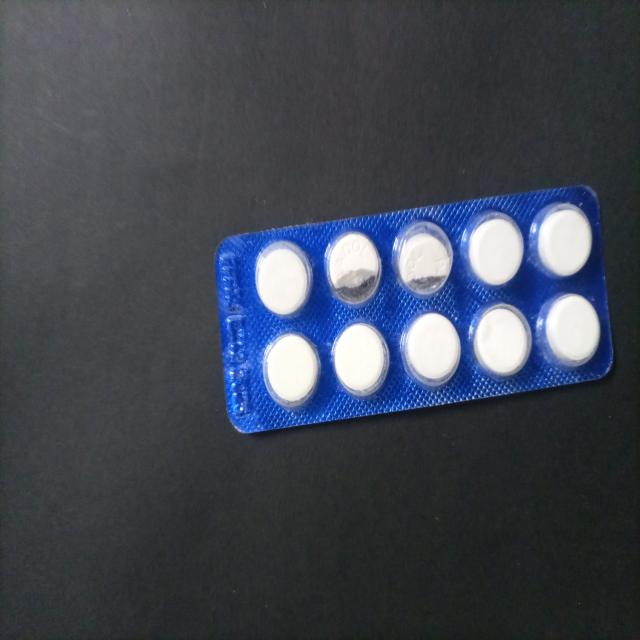defect: (390, 217, 456, 304), (322, 228, 384, 308)
